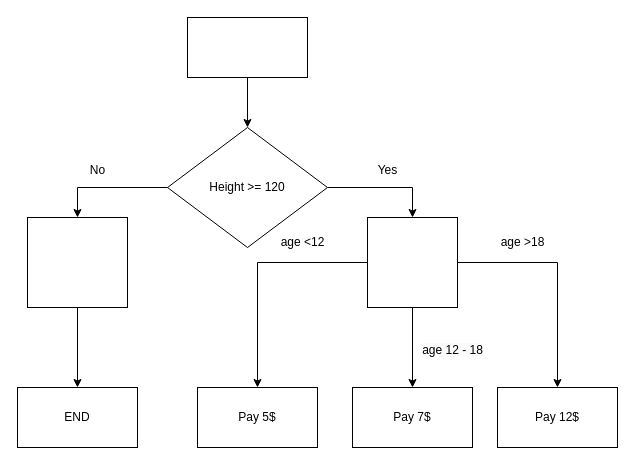
Some shapes in this 635 by 465 pixel diagram are drawn without their labels. Here are the shapes that lost their labels. From the top down, the box of each, then its label:
(186, 16, 308, 78): Start
(26, 216, 128, 308): Can't ride
(366, 216, 458, 308): Can ride
